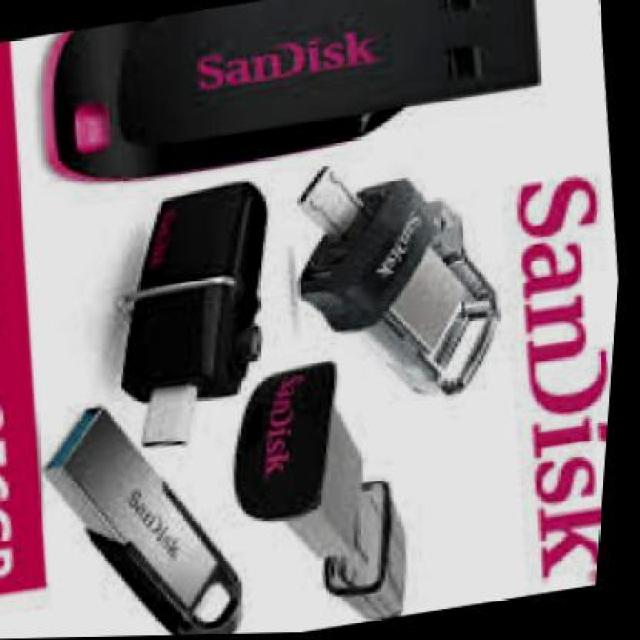Flashdisk: (25, 0, 552, 197)
